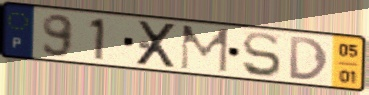1: (85, 16, 107, 63)
9: (40, 12, 76, 59)
D: (288, 34, 331, 82)
M: (178, 23, 231, 75)
S: (240, 31, 284, 80)
X: (133, 19, 181, 70)
